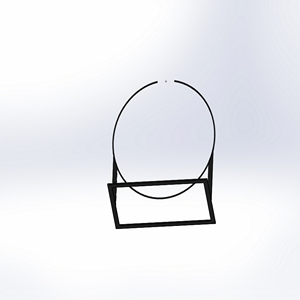circle: (106, 77, 219, 230)
